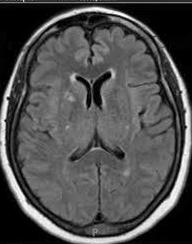Normal_Brain: (1, 13, 192, 244)
